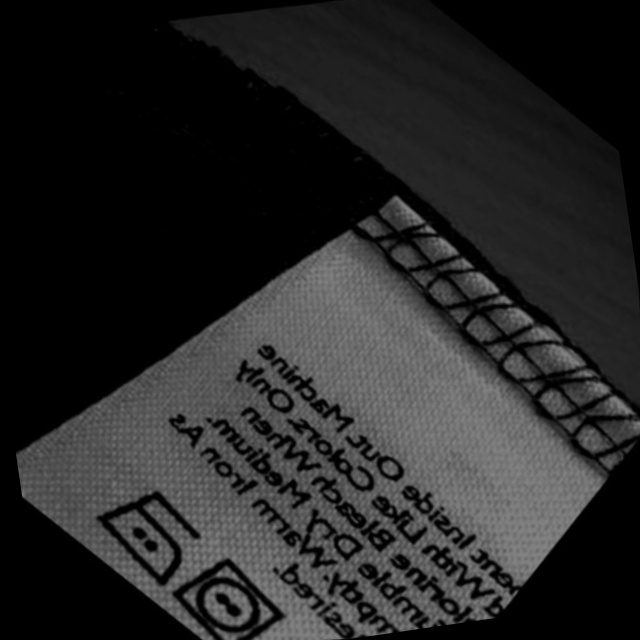iron_medium: (79, 476, 212, 599)
tumble_dry_medium: (159, 545, 293, 640)
